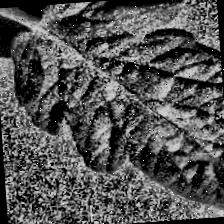leaf mold: (8, 0, 224, 224)
